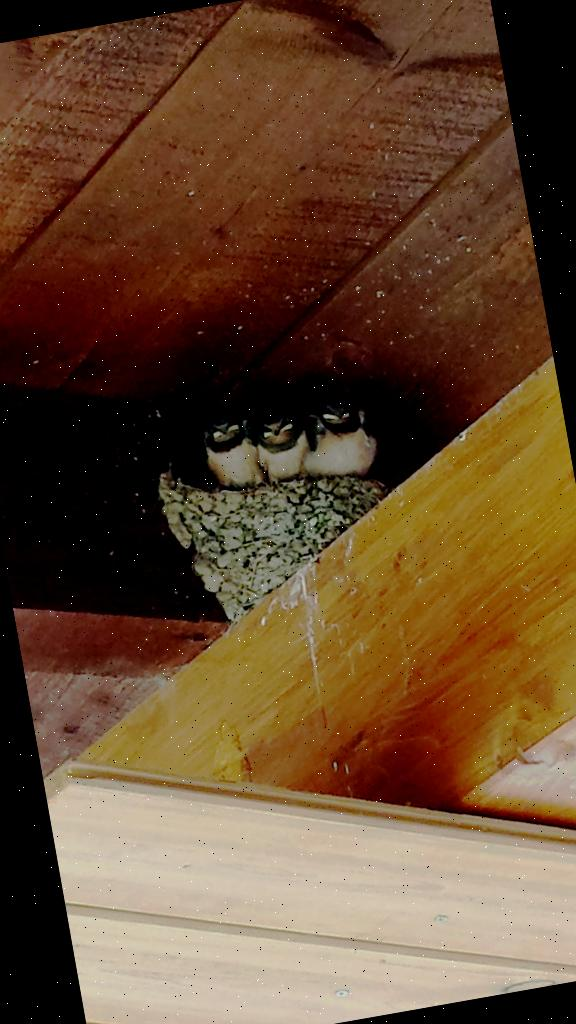Owl: (187, 386, 261, 495), (295, 395, 378, 489), (226, 404, 316, 488)
